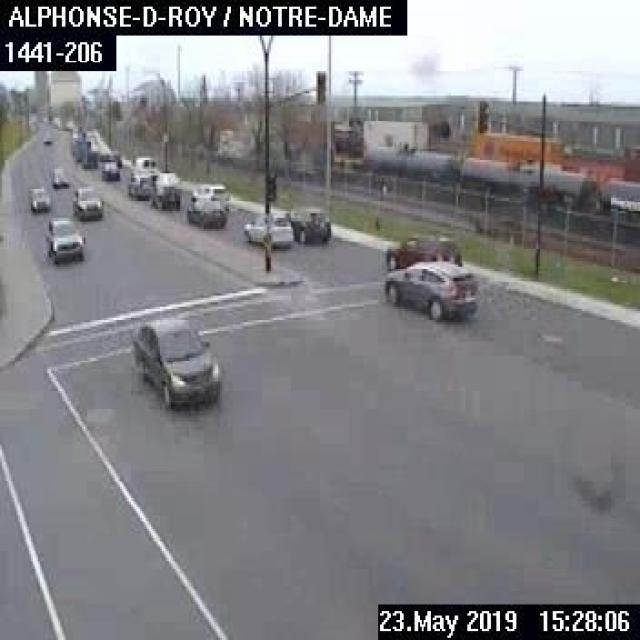vehicle: (128, 313, 220, 411), (383, 257, 474, 319), (383, 229, 460, 269), (242, 213, 290, 251), (43, 215, 83, 260), (282, 207, 330, 242), (186, 197, 224, 227), (71, 182, 101, 217), (190, 182, 228, 209), (126, 169, 154, 197), (150, 185, 180, 210), (27, 184, 49, 210), (130, 157, 157, 174), (50, 164, 69, 187), (152, 171, 178, 187), (100, 160, 118, 179), (98, 150, 120, 165), (80, 149, 97, 168), (42, 134, 51, 143)
